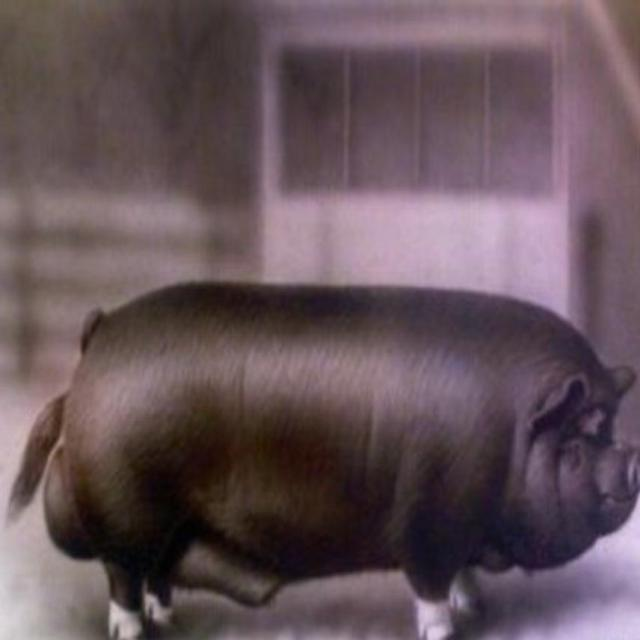pig: (9, 282, 640, 638)
